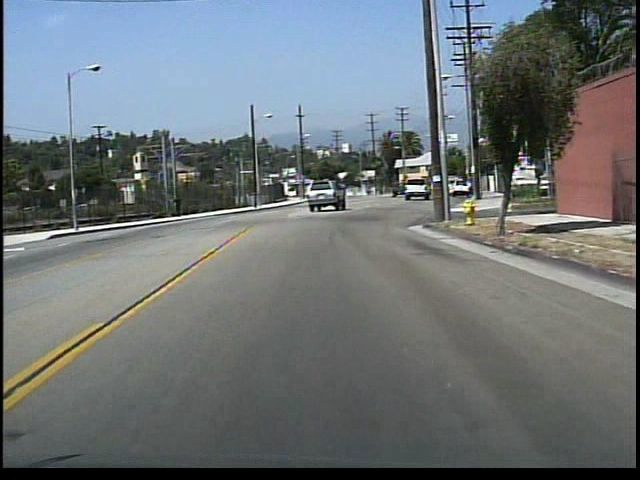person: (173, 189, 189, 218)
